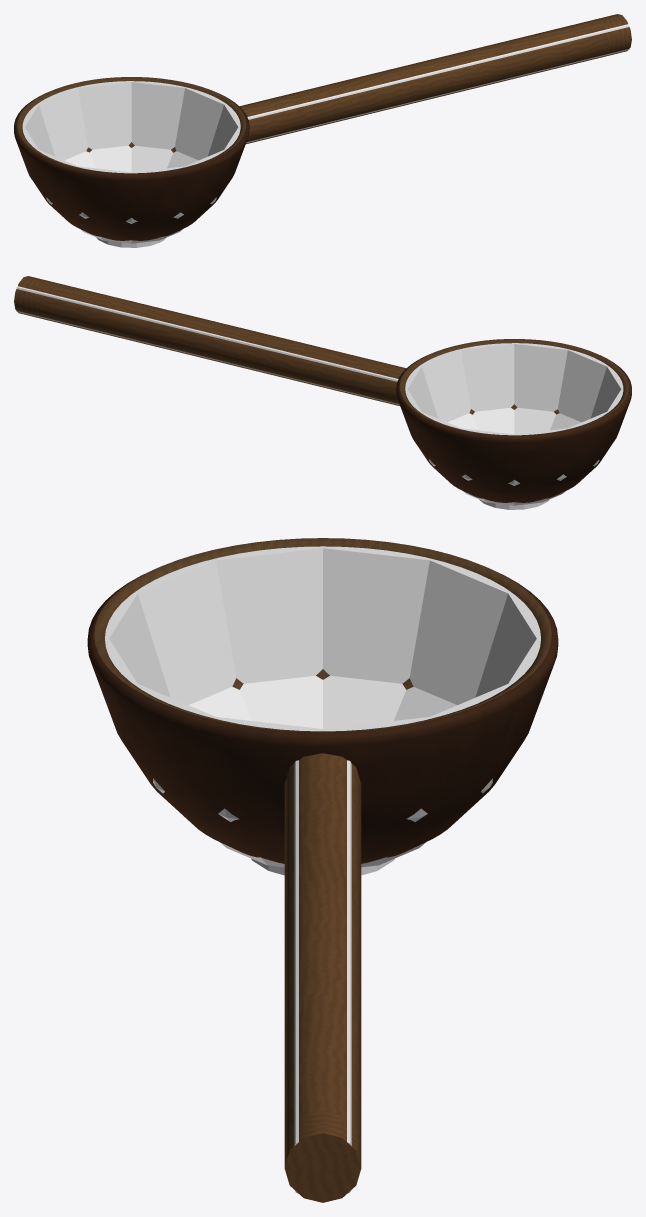
Rendered from CoconutLadle.fbx.
The picture shows the model from 3 angles, top to bottom: view 1: azimuth 30°, elevation 25°; view 2: azimuth 150°, elevation 25°; view 3: azimuth 270°, elevation 25°; orthographic projection. The views are drawn at different scales.
Visible parts, largest first — view 1: CoconutLadle, COL_CoconutLadle_Wall_02_02, COL_CoconutLadle_Wall_02_03, COL_CoconutLadle_Wall_02_01, COL_CoconutLadle_Wall_02_04, COL_CoconutLadle_Handle, COL_CoconutLadle_Wall_01_02, COL_CoconutLadle_Wall_01_03, COL_CoconutLadle_Wall_02_12, COL_CoconutLadle_Wall_02_05; view 2: CoconutLadle, COL_CoconutLadle_Wall_02_11, COL_CoconutLadle_Wall_02_10, COL_CoconutLadle_Wall_02_12, COL_CoconutLadle_Wall_02_09, COL_CoconutLadle_Handle, COL_CoconutLadle_Wall_01_10, COL_CoconutLadle_Wall_01_11, COL_CoconutLadle_Wall_02_01, COL_CoconutLadle_Wall_02_08; view 3: CoconutLadle, COL_CoconutLadle_Wall_02_06, COL_CoconutLadle_Wall_02_07, COL_CoconutLadle_Wall_02_05, COL_CoconutLadle_Wall_02_08, COL_CoconutLadle_Handle, COL_CoconutLadle_Wall_01_06, COL_CoconutLadle_Wall_01_07, COL_CoconutLadle_Wall_02_04, COL_CoconutLadle_Wall_02_09, COL_CoconutLadle_Wall_01_05, COL_CoconutLadle_Wall_01_08.
Part boxes in pixels (left/top/right/bottom): CoconutLadle: left=14, top=14, right=631, bottom=240; COL_CoconutLadle_Wall_02_02: left=131, top=81, right=185, bottom=149; COL_CoconutLadle_Wall_02_03: left=77, top=81, right=131, bottom=149; COL_CoconutLadle_Wall_02_01: left=175, top=87, right=225, bottom=160; COL_CoconutLadle_Wall_02_04: left=37, top=87, right=88, bottom=160; COL_CoconutLadle_Handle: left=246, top=24, right=629, bottom=143; COL_CoconutLadle_Wall_01_02: left=131, top=145, right=172, bottom=172; COL_CoconutLadle_Wall_01_03: left=90, top=145, right=131, bottom=172; COL_CoconutLadle_Wall_02_12: left=208, top=104, right=240, bottom=156; COL_CoconutLadle_Wall_02_05: left=22, top=104, right=55, bottom=156; CoconutLadle: left=14, top=276, right=631, bottom=502; COL_CoconutLadle_Wall_02_11: left=460, top=343, right=514, bottom=411; COL_CoconutLadle_Wall_02_10: left=514, top=343, right=568, bottom=411; COL_CoconutLadle_Wall_02_12: left=420, top=349, right=470, bottom=422; COL_CoconutLadle_Wall_02_09: left=557, top=349, right=608, bottom=422; COL_CoconutLadle_Handle: left=16, top=286, right=399, bottom=405; COL_CoconutLadle_Wall_01_10: left=514, top=407, right=555, bottom=434; COL_CoconutLadle_Wall_01_11: left=473, top=407, right=514, bottom=434; COL_CoconutLadle_Wall_02_01: left=405, top=366, right=437, bottom=418; COL_CoconutLadle_Wall_02_08: left=590, top=366, right=623, bottom=418; CoconutLadle: left=87, top=538, right=558, bottom=1202; COL_CoconutLadle_Wall_02_06: left=323, top=546, right=431, bottom=683; COL_CoconutLadle_Wall_02_07: left=214, top=546, right=322, bottom=683; COL_CoconutLadle_Wall_02_05: left=409, top=559, right=511, bottom=704; COL_CoconutLadle_Wall_02_08: left=134, top=559, right=236, bottom=704; COL_CoconutLadle_Handle: left=294, top=760, right=351, bottom=1193; COL_CoconutLadle_Wall_01_06: left=323, top=675, right=405, bottom=728; COL_CoconutLadle_Wall_01_07: left=240, top=675, right=322, bottom=728; COL_CoconutLadle_Wall_02_04: left=475, top=592, right=540, bottom=697; COL_CoconutLadle_Wall_02_09: left=105, top=592, right=170, bottom=697; COL_CoconutLadle_Wall_01_05: left=394, top=686, right=456, bottom=720; COL_CoconutLadle_Wall_01_08: left=189, top=686, right=251, bottom=720.
Size of the model in its own units: 0.32 by 0.055 by 0.11.
Materials: 3 (3 with a texture image).
